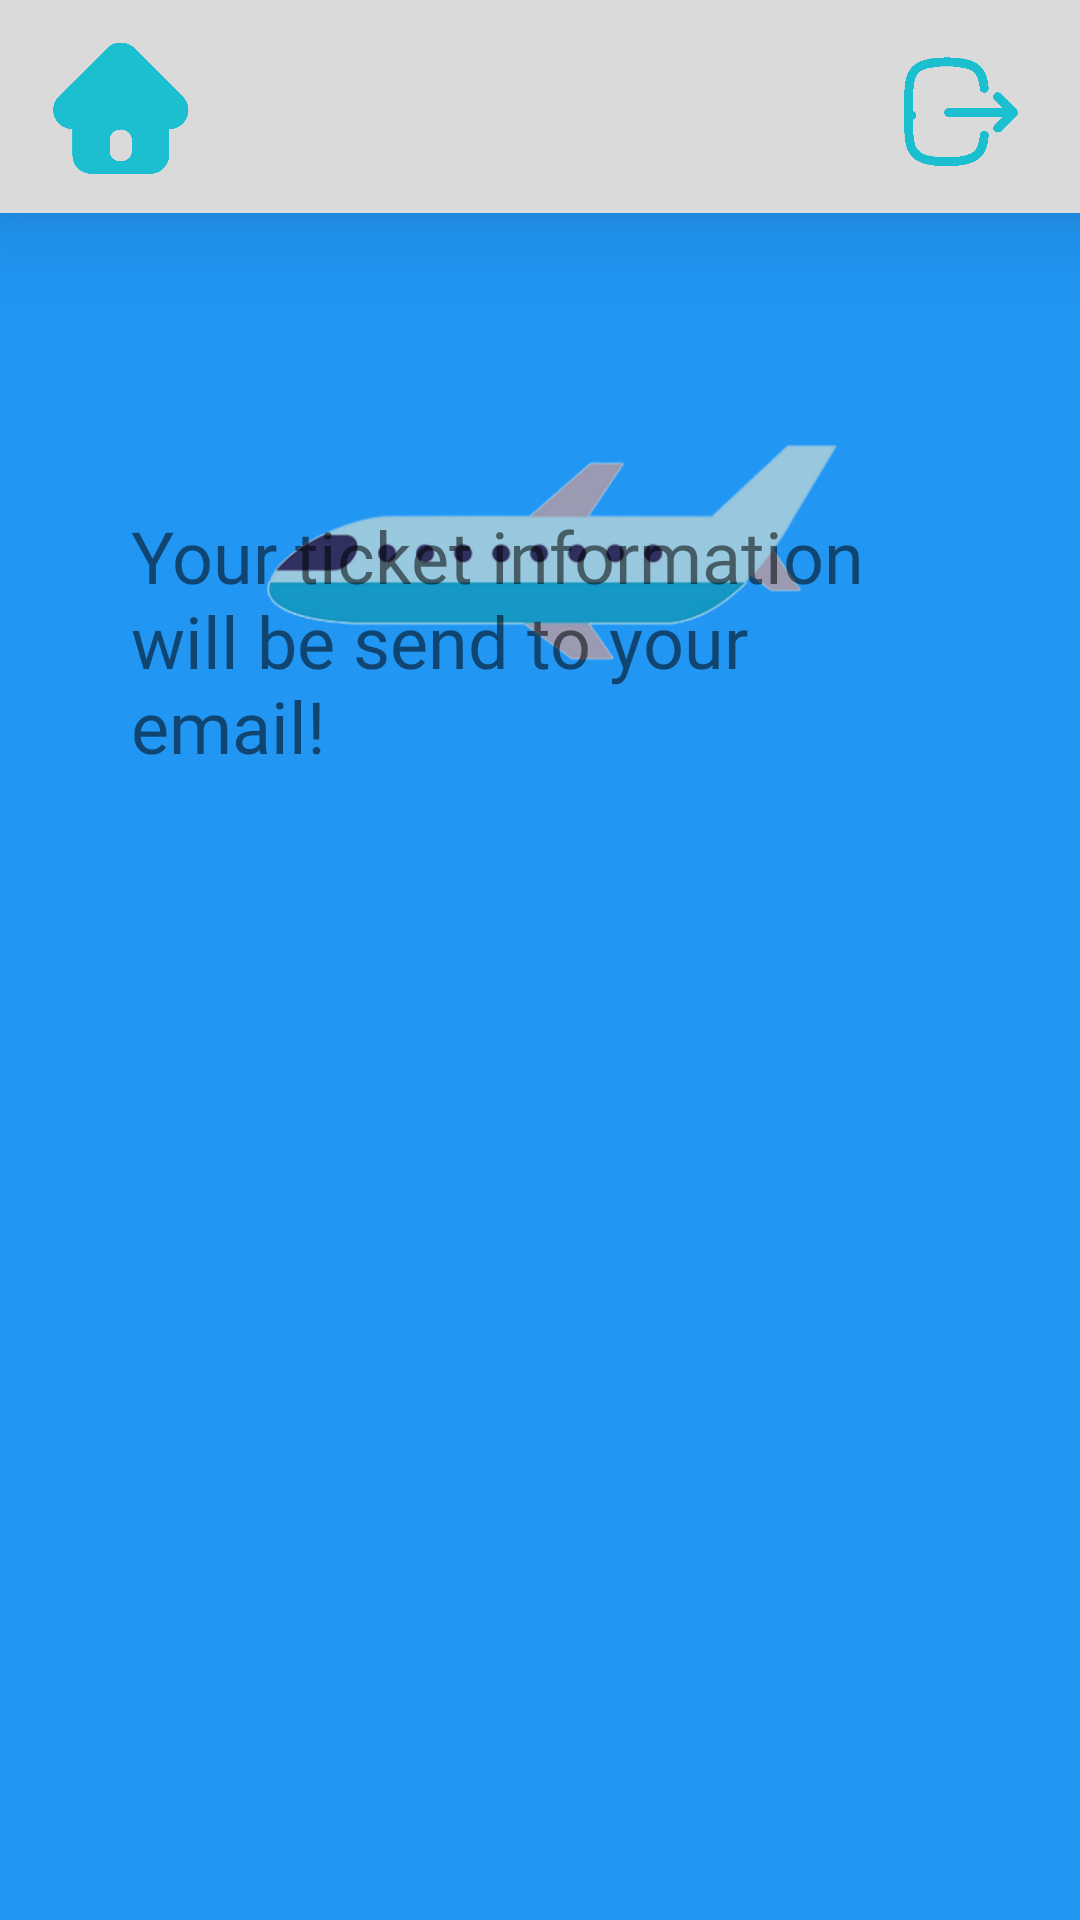

Screen size 1080 x 1920. Icon name, then its center in pixels as [x,y]:
rumah: [121,108]
